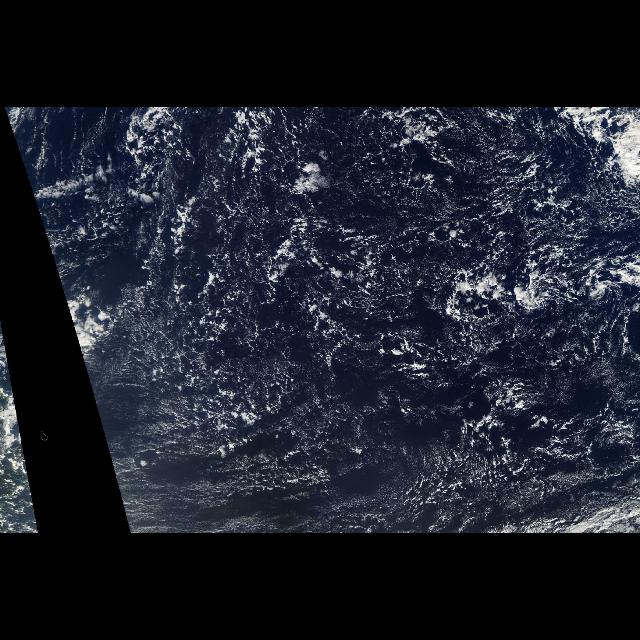Gravel: (58, 109, 638, 531)
